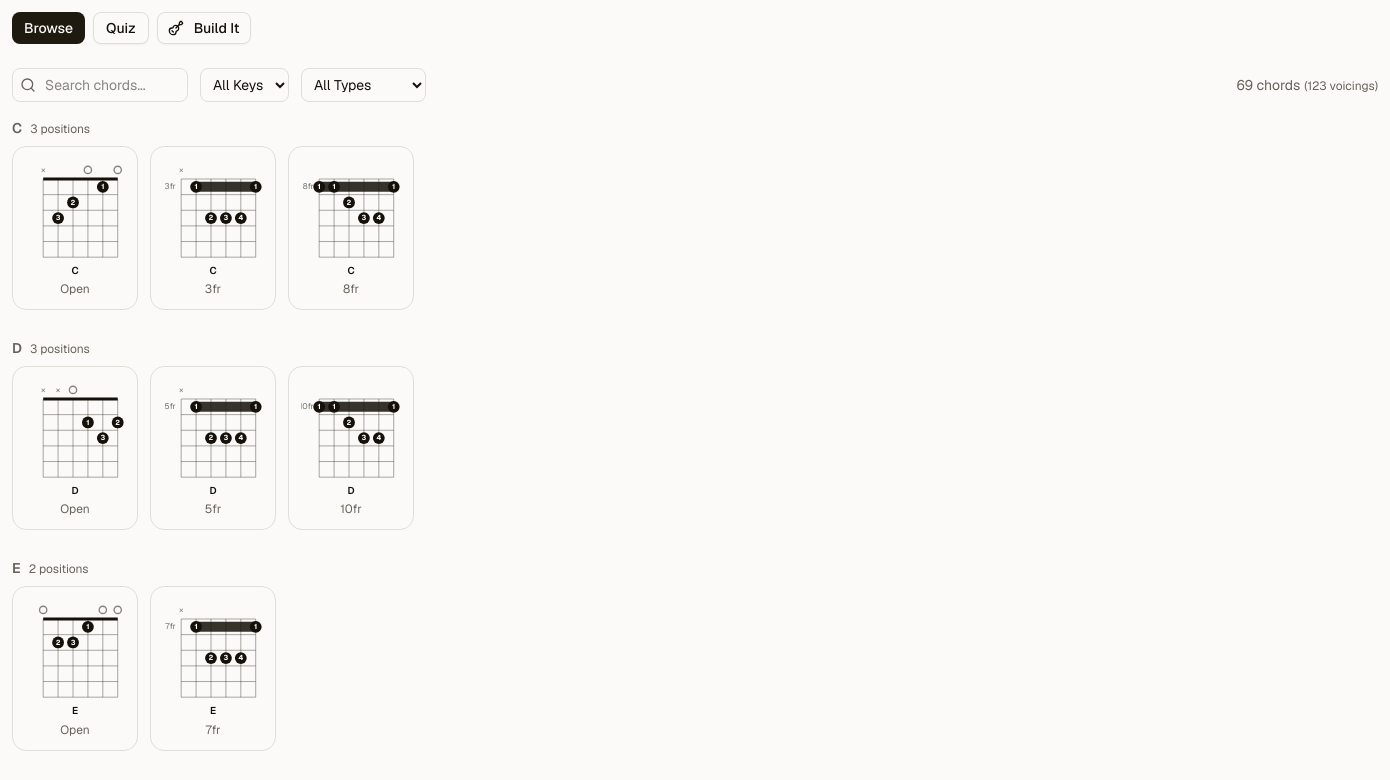
Test: ChordLibrary › switching to quiz mode shows quiz panel
Step 1. Click the button with test id "mode-quiz" → {"x": 121, "y": 28}, box [93,12,149,44]
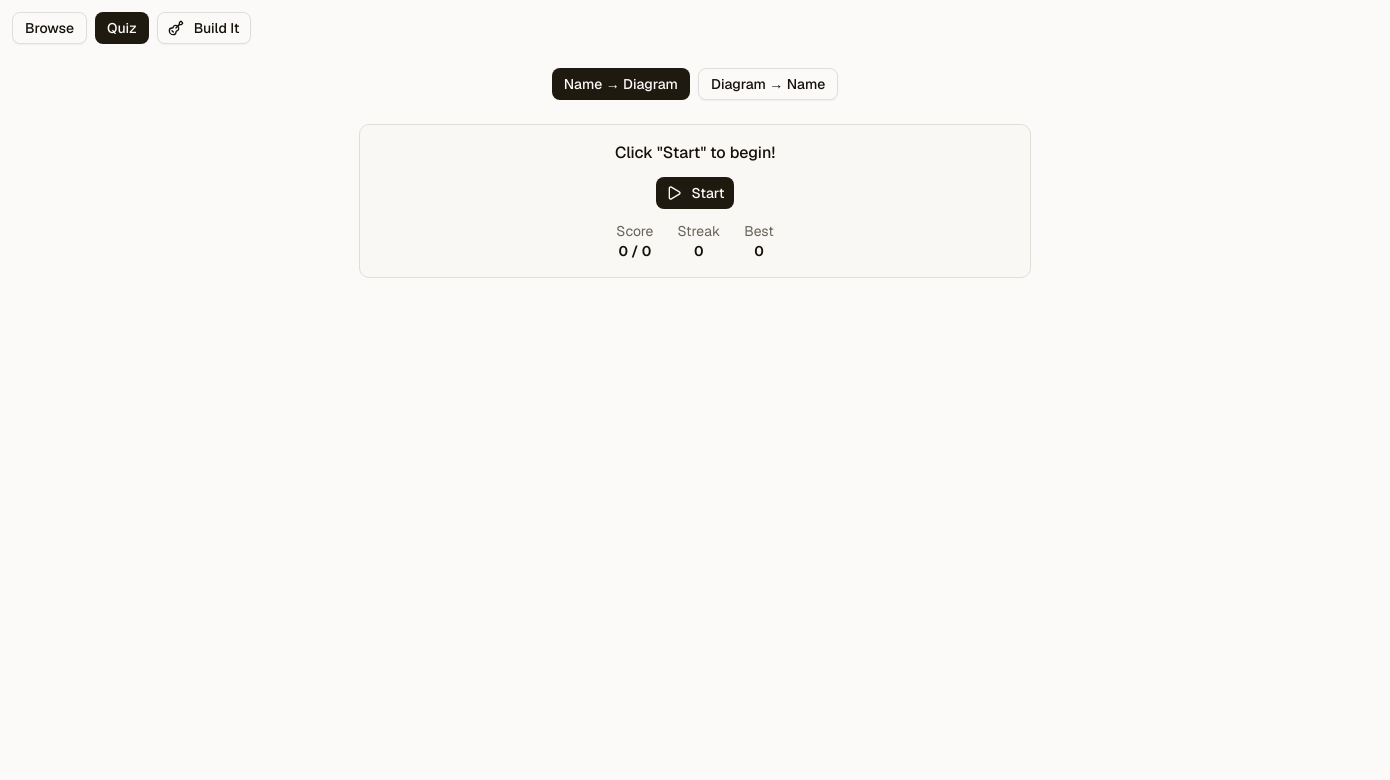
Check: the element with test id "quiz-panel" is shown, box [359,124,1031,278]
Check: the button with test id "start-btn" reads "Start", box [656,177,734,209]
